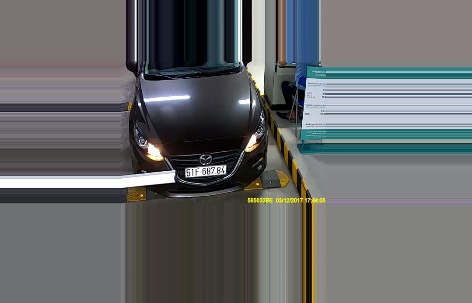plate: (184, 163, 231, 181)
